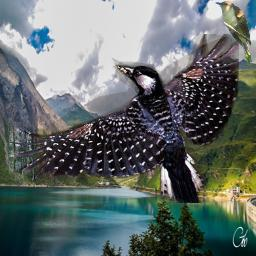Cuckoo: (213, 0, 253, 66)
Woodpecker: (9, 34, 239, 203)
